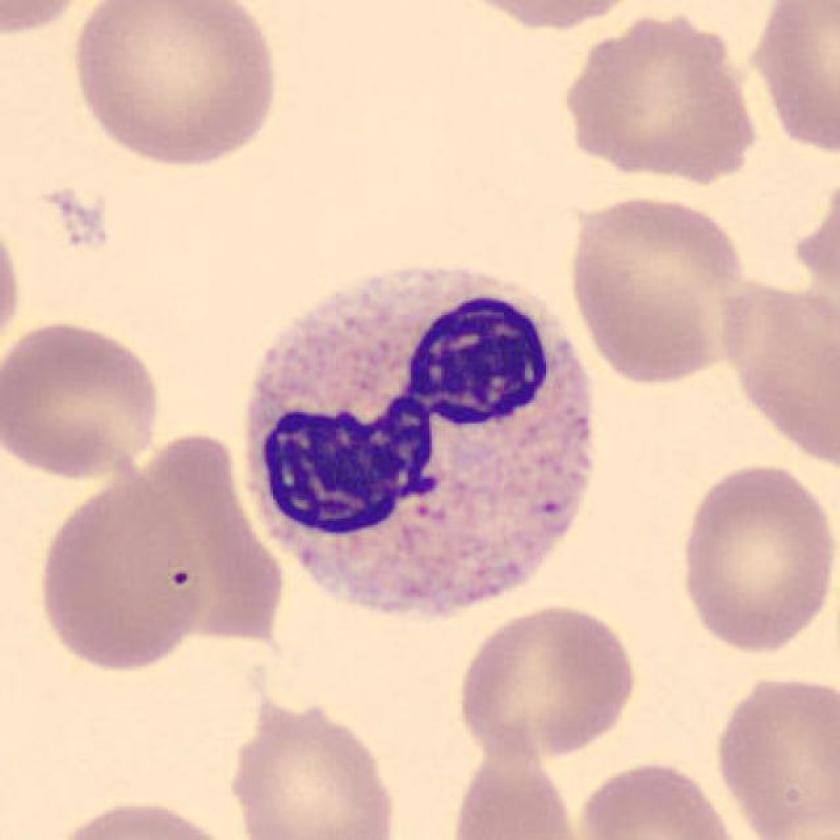neutrophil: (251, 265, 596, 619)
